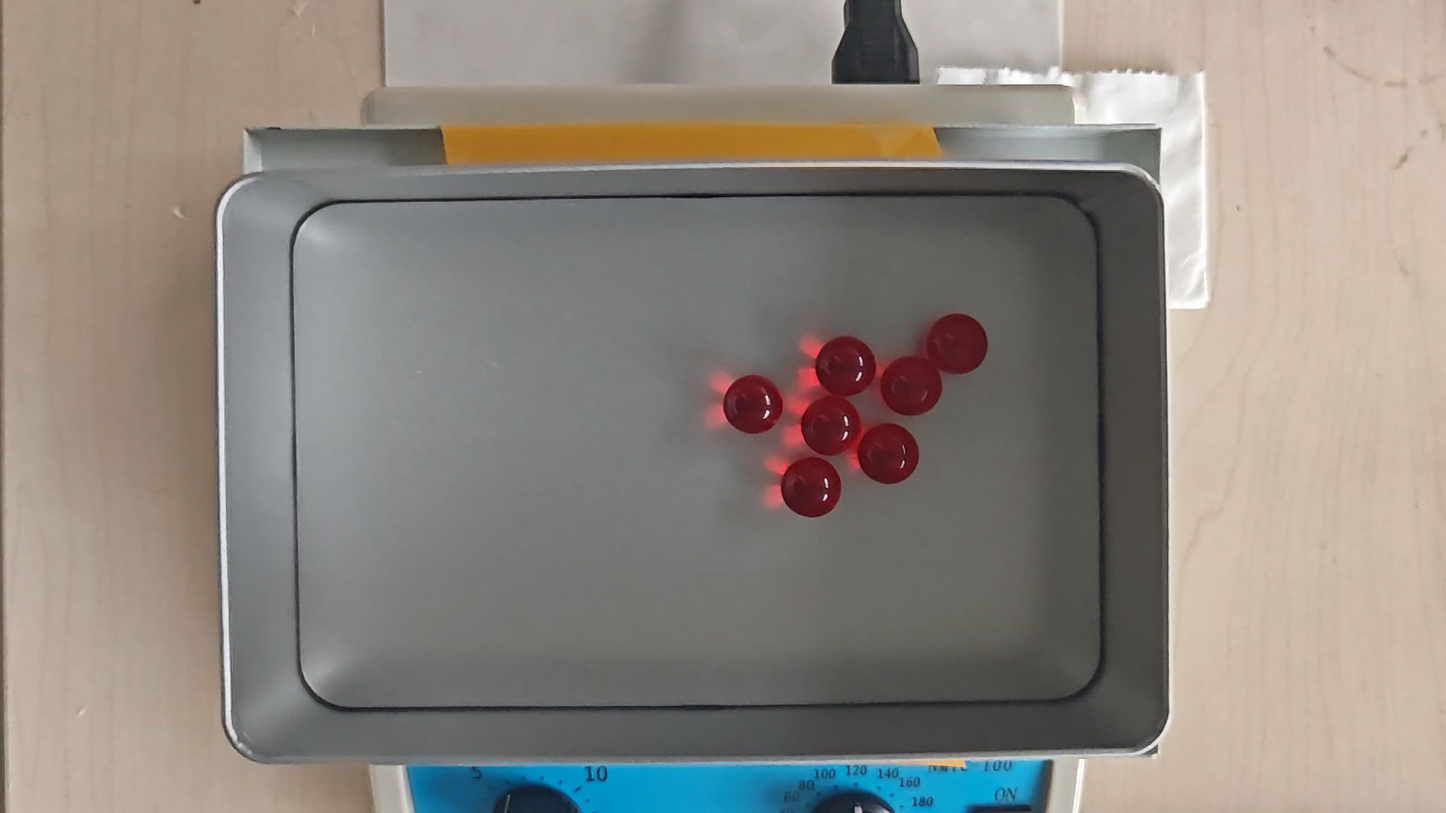ball: (781, 456, 844, 519), (722, 374, 782, 434), (816, 336, 875, 397), (801, 397, 862, 456), (929, 312, 988, 373), (883, 355, 941, 417), (859, 424, 917, 483)
container: (290, 199, 1103, 706)
